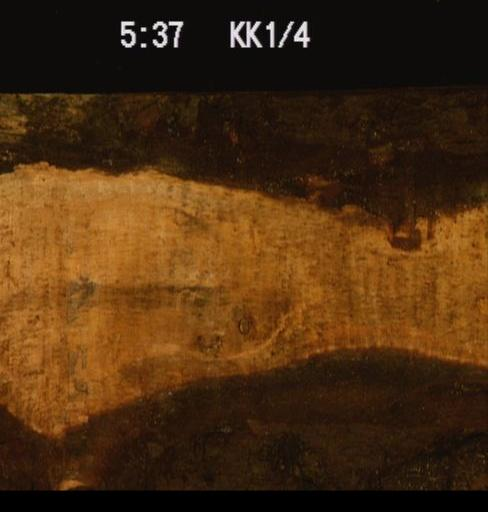dry_knot: (235, 314, 249, 335)
wave: (0, 81, 486, 250), (0, 344, 486, 489)
